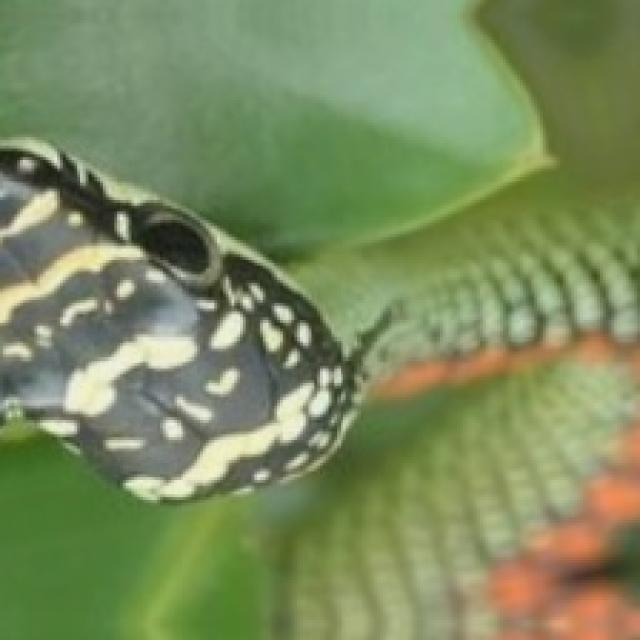paradise tree snake: (0, 137, 403, 500)
